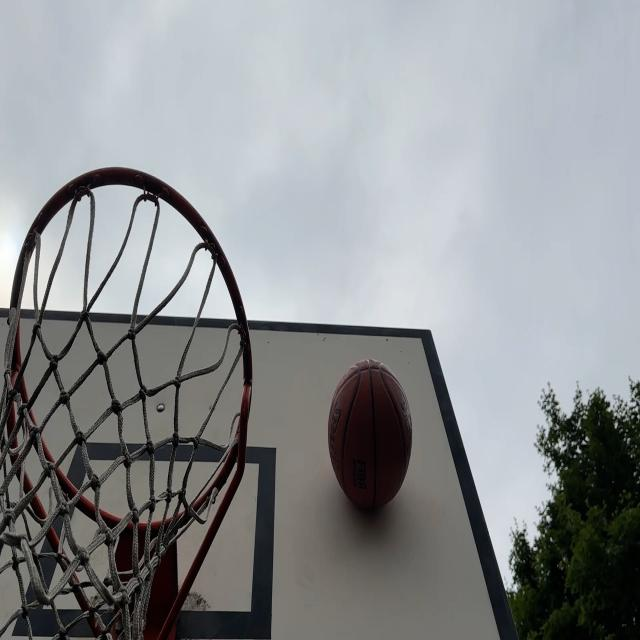rebound_hit: (328, 360, 412, 521)
